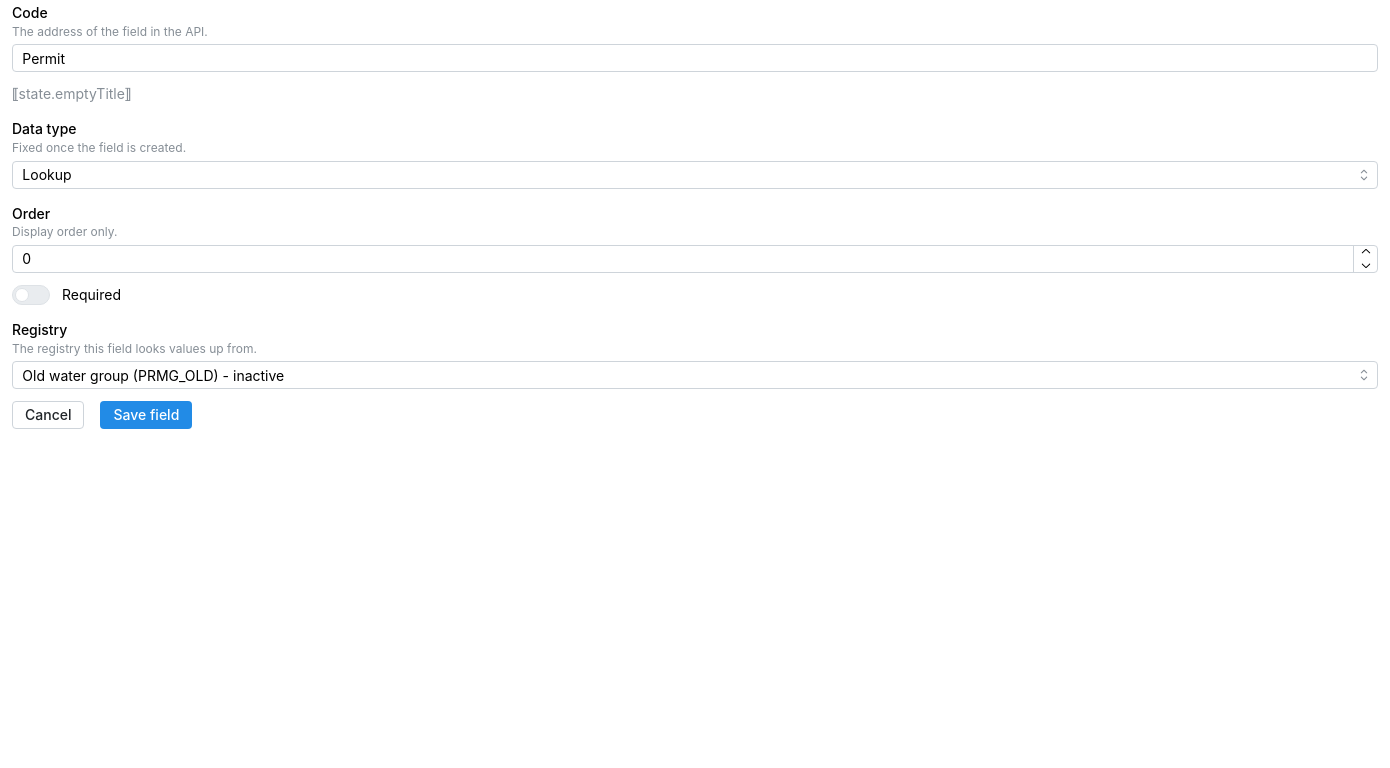
HeaderFieldEditor: вибір довідника лише для типу Lookup › by-id: неактивна група поза переліком - назва, код і позначка «inactive», опис другим рядком
This screenshot has width=1390, height=768.
Click the field labelled "Registry" at coordinates (695, 375), box [12,361,1378,389]
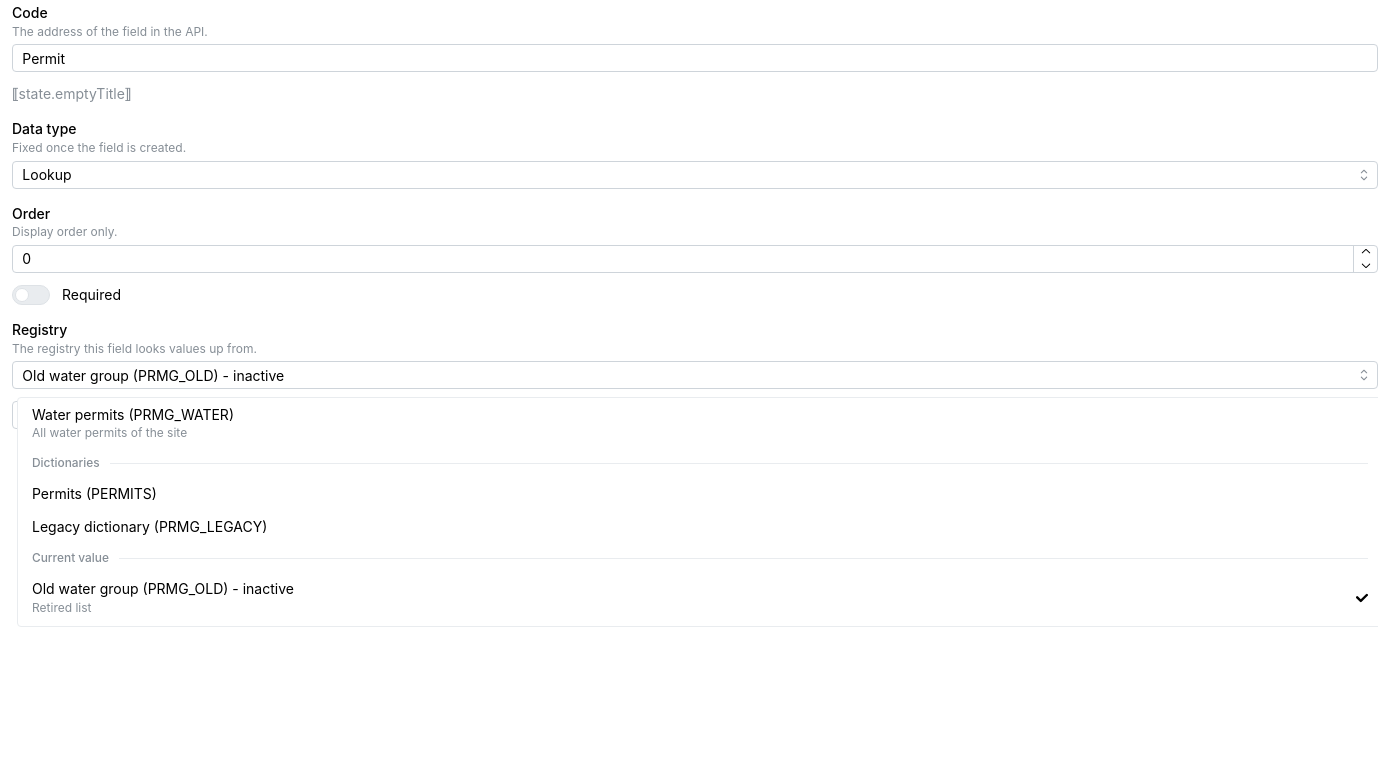
Check: the text "Retired list" is shown, box [32,600,92,615]
